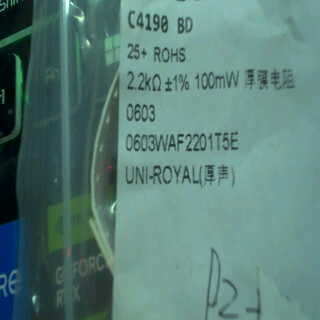2.2kR: (125, 67, 164, 99)
